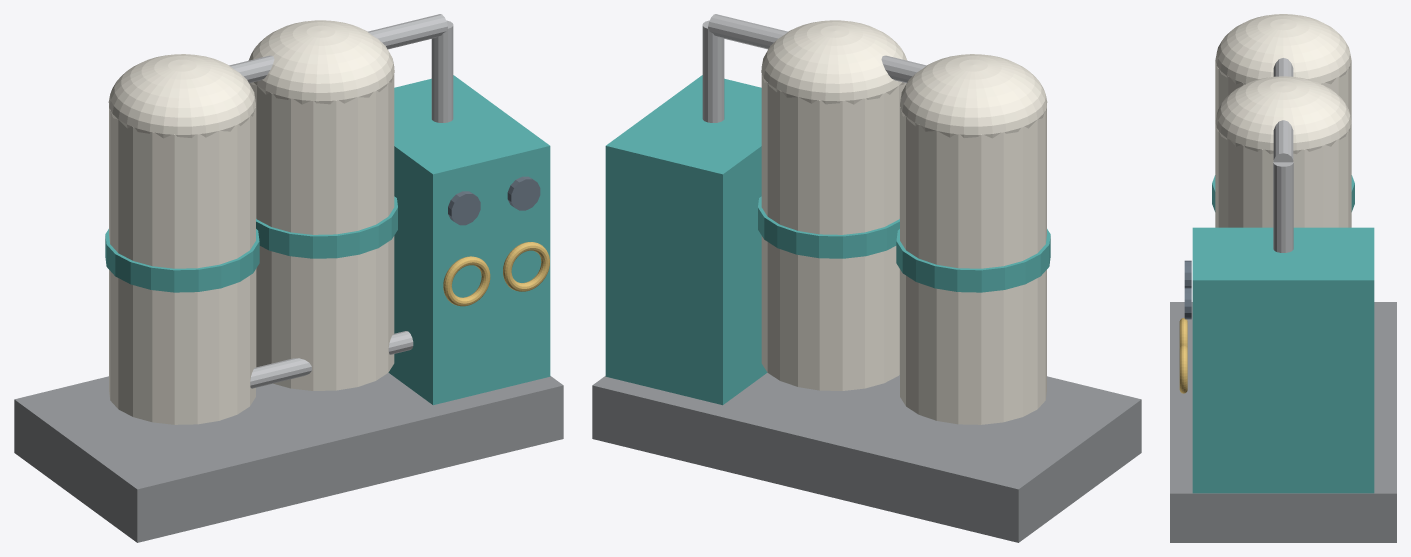
Rendered from life-support.glb.
3 renders of one model, left to right at view 1: azimuth 30°, elevation 25°; view 2: azimuth 150°, elevation 25°; view 3: azimuth 270°, elevation 25°, orthographic. The views are drawn at different scales.
Parts seen in each view (by area): view 1: Base, PumpBlock, Tank, Tank.001, TankCap, TankCap.001, TankBand, TankBand.001, Pipe, PipeDrop, PipeLow, Valve (+3 smaller); view 2: Base, PumpBlock, Tank, Tank.001, TankCap, TankCap.001, TankBand, TankBand.001, PipeDrop, Pipe, Pipe.001; view 3: PumpBlock, Base, Tank.001, TankCap.001, TankCap, PipeDrop, Tank, Pipe, Valve.001, Pipe.001.
Part boxes in pixels (x1,y1,x2,y2): Base: (14, 373, 563, 542); PumpBlock: (388, 75, 550, 405); Tank: (109, 107, 255, 424); Tank.001: (249, 73, 394, 390); TankCap: (108, 54, 255, 138); TankCap.001: (248, 20, 394, 104); TankBand: (105, 229, 259, 292); TankBand.001: (256, 196, 397, 258); Pipe: (229, 14, 447, 83); PipeDrop: (431, 20, 453, 122); PipeLow: (250, 331, 413, 388); Valve: (443, 256, 490, 306); Base: (592, 373, 1141, 542); PumpBlock: (605, 75, 767, 405); Tank: (900, 107, 1046, 424); Tank.001: (761, 73, 906, 390); TankCap: (900, 54, 1047, 138); TankCap.001: (761, 20, 907, 104); TankBand: (896, 229, 1050, 292); TankBand.001: (758, 196, 899, 258); PipeDrop: (702, 20, 724, 122); Pipe: (709, 14, 926, 83); Pipe.001: (708, 21, 777, 49); PumpBlock: (1192, 227, 1374, 493); Base: (1170, 302, 1396, 542); Tank.001: (1215, 123, 1351, 227); TankCap.001: (1215, 76, 1351, 154); TankCap: (1215, 14, 1351, 84); PipeDrop: (1273, 162, 1293, 252); Tank: (1215, 60, 1351, 121); Pipe: (1273, 58, 1293, 162); Valve.001: (1179, 344, 1187, 393); Pipe.001: (1275, 123, 1293, 162).
Bounding box in the file's own units: 2 × 1.82 × 1.
